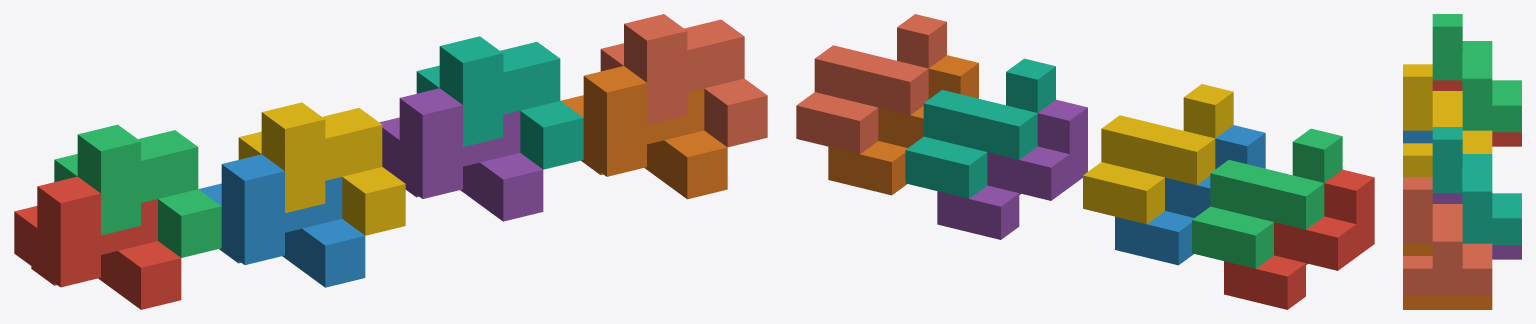
The model's file is tiling.obj.
3 renders of one model, left to right at view 1: azimuth 30°, elevation 25°; view 2: azimuth 150°, elevation 25°; view 3: azimuth 270°, elevation 25°, orthographic. The views are drawn at different scales.
Parts seen in each view (by area): view 1: copy_1_domain_1, copy_1_domain_5, copy_1_domain_7, copy_1_domain_4, copy_1_domain_8, copy_1_domain_3, copy_1_domain_2, copy_1_domain_6; view 2: copy_1_domain_3, copy_1_domain_7, copy_1_domain_8, copy_1_domain_4, copy_1_domain_5, copy_1_domain_1, copy_1_domain_6, copy_1_domain_2; view 3: copy_1_domain_8, copy_1_domain_3, copy_1_domain_7, copy_1_domain_4, copy_1_domain_6, copy_1_domain_1, copy_1_domain_5, copy_1_domain_2.
Boxes of the visible parts, x1=… form: copy_1_domain_1: x1=14, y1=176, x2=181, y2=309; copy_1_domain_5: x1=379, y1=88, x2=543, y2=221; copy_1_domain_7: x1=416, y1=36, x2=583, y2=169; copy_1_domain_4: x1=238, y1=102, x2=405, y2=235; copy_1_domain_8: x1=600, y1=14, x2=767, y2=147; copy_1_domain_3: x1=54, y1=124, x2=221, y2=257; copy_1_domain_2: x1=198, y1=154, x2=365, y2=287; copy_1_domain_6: x1=560, y1=66, x2=727, y2=199; copy_1_domain_3: x1=1192, y1=128, x2=1342, y2=268; copy_1_domain_7: x1=905, y1=58, x2=1055, y2=198; copy_1_domain_8: x1=796, y1=14, x2=946, y2=154; copy_1_domain_4: x1=1083, y1=84, x2=1233, y2=224; copy_1_domain_5: x1=937, y1=99, x2=1087, y2=239; copy_1_domain_1: x1=1224, y1=169, x2=1374, y2=309; copy_1_domain_6: x1=828, y1=55, x2=978, y2=195; copy_1_domain_2: x1=1115, y1=125, x2=1265, y2=265; copy_1_domain_8: x1=1403, y1=177, x2=1492, y2=295; copy_1_domain_3: x1=1432, y1=14, x2=1521, y2=132; copy_1_domain_7: x1=1432, y1=127, x2=1521, y2=245; copy_1_domain_4: x1=1403, y1=64, x2=1492, y2=177; copy_1_domain_6: x1=1403, y1=243, x2=1492, y2=309; copy_1_domain_1: x1=1432, y1=80, x2=1521, y2=146; copy_1_domain_5: x1=1432, y1=193, x2=1521, y2=259; copy_1_domain_2: x1=1403, y1=130, x2=1432, y2=143.
Bounding box in the file's own units: 17 × 4 × 4.
